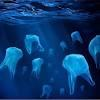Trash: (58, 50, 92, 91), (20, 25, 46, 58)
